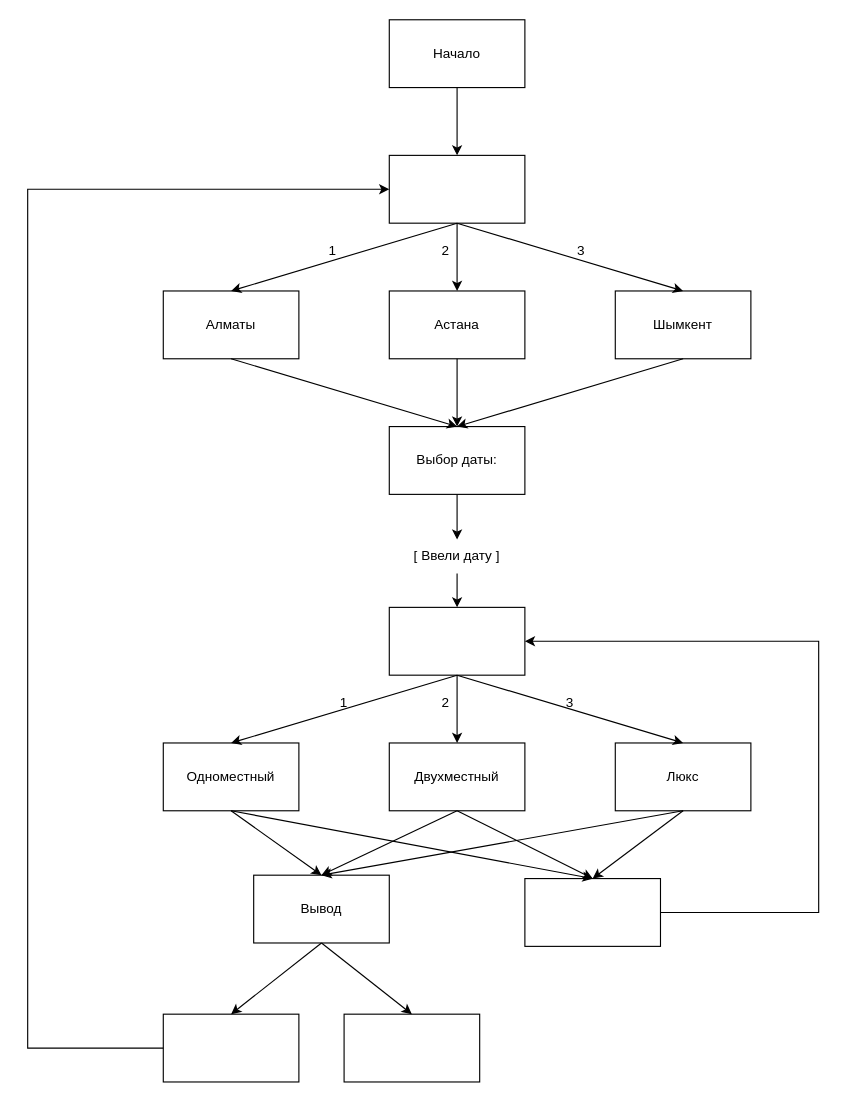
Image size: 848x1102. Some labels were removed from this diagram. The centre of each missing label's shape, as x and y in pixels:
"Else К сож. своб. мест не ост." goes at pixel 230 1047.
"End" goes at pixel 411 1047.
"Выбор города:" goes at pixel 456 188.
"Неверный выбор типа номера." goes at pixel 592 911.
"Тип номера:" goes at pixel 456 640.
